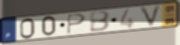0: (40, 15, 58, 38), (19, 17, 37, 39)
4: (119, 7, 137, 30)
B: (89, 10, 112, 33)
P: (67, 13, 88, 35)
V: (138, 4, 164, 29)
